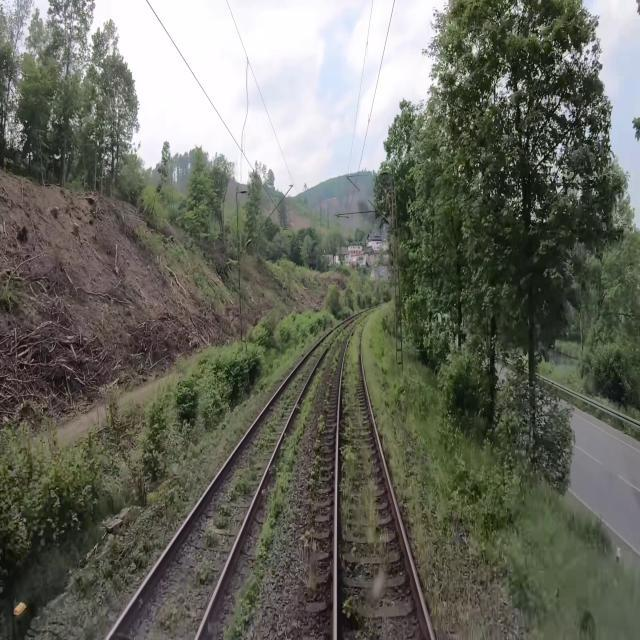Plant: (362, 336, 468, 618), (222, 367, 325, 639), (338, 324, 393, 564), (248, 327, 342, 461), (308, 328, 350, 499), (226, 462, 259, 502), (202, 503, 232, 546), (341, 595, 358, 627)
